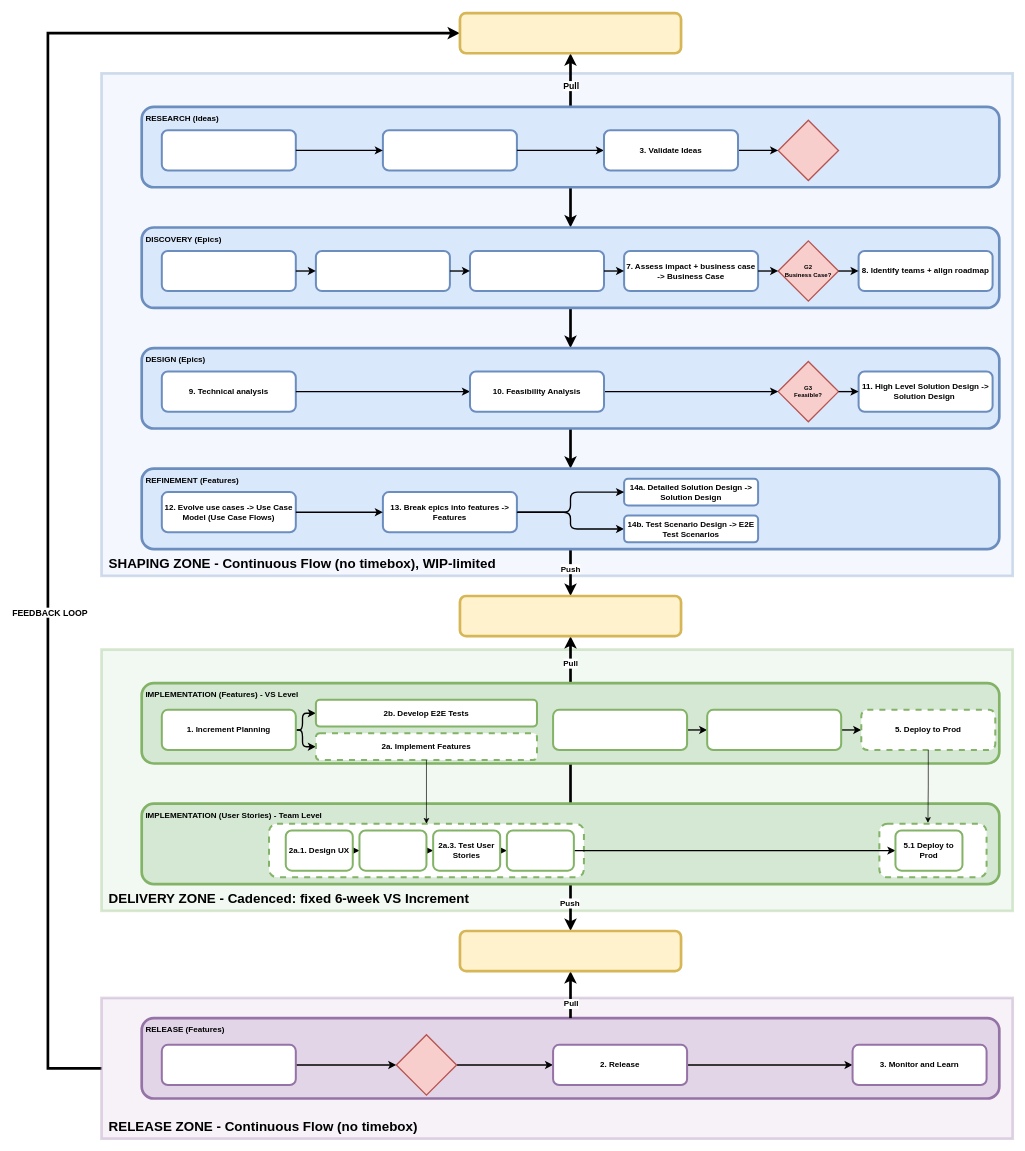
Some shapes in this 1025 by 1151 pixel diagram are drawn without their labels. The shapes that lost their labels are listed below. From the top down, each one's centre as x and y in pixels, then its label:
At pixel 570 32: "OPTION POOL".
At pixel 228 150: "1. Generate ideas -> Idea(s)".
At pixel 450 150: "2. Analyze market + stakeholders -> Insights, stakeholder map".
At pixel 808 150: "G1 Idea Validated?".
At pixel 228 271: "4. Evolve journey + process -> Service blueprint".
At pixel 383 271: "5. Evolve use cases -> Use Case Model (Use Cases)".
At pixel 537 271: "6. Create epics -> Epics".
At pixel 570 615: "DELIVERY BACKLOG (Ready) ★ COMMITMENT POINT ★".
At pixel 620 730: "3. Run E2E Functional Tests".
At pixel 774 730: "4. Run E2E NFR Tests".
At pixel 392 850: "2a.2. Develop User Stories".
At pixel 540 850: "2a.4. Deploy to Staging".
At pixel 570 950: "ACCEPTANCE QUEUE".
At pixel 228 1065: "1. Run UAT".
At pixel 426 1064: "G4 Release?".
